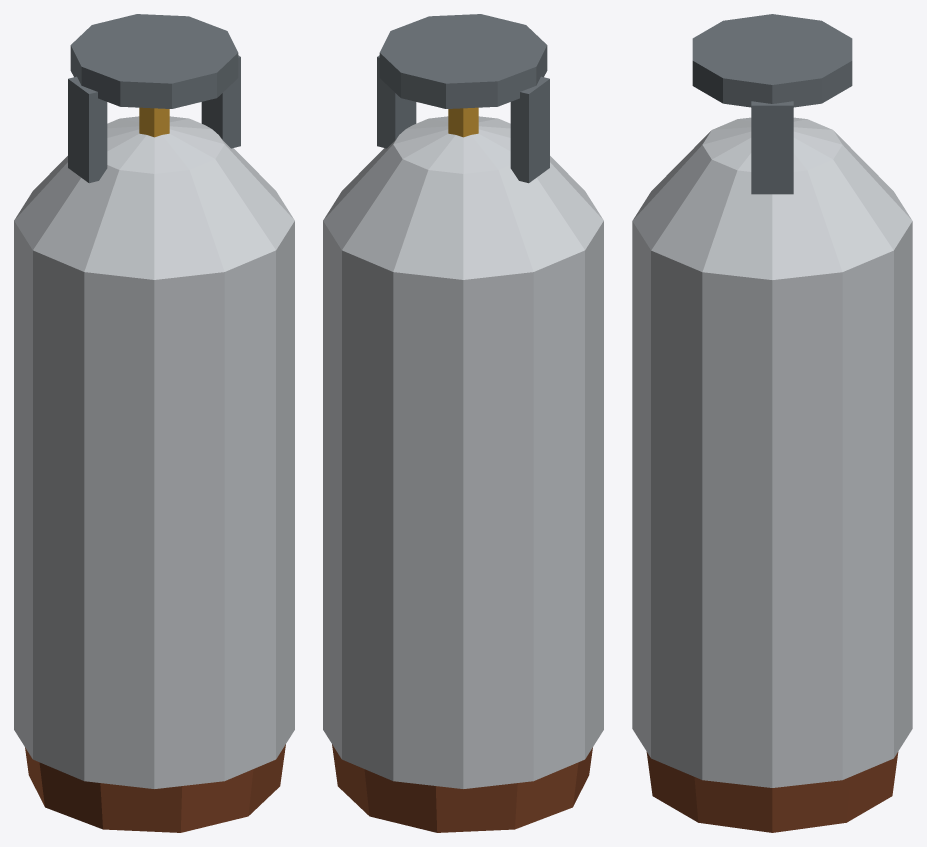
Rendered from propane_tank.glb.
3 renders of one model, left to right at view 1: azimuth 30°, elevation 25°; view 2: azimuth 150°, elevation 25°; view 3: azimuth 270°, elevation 25°, orthographic.
Parts seen in each view (by area): view 1: propane_tank; view 2: propane_tank; view 3: propane_tank.
Boxes of the visible parts, <box> form: propane_tank: <box>14,14,294,832</box>; propane_tank: <box>323,14,603,832</box>; propane_tank: <box>632,14,912,832</box>.
Size of what is drawn, in the model's own units: 0.4 by 1.15 by 0.4.
Materials: 2 (2 with a texture image).
